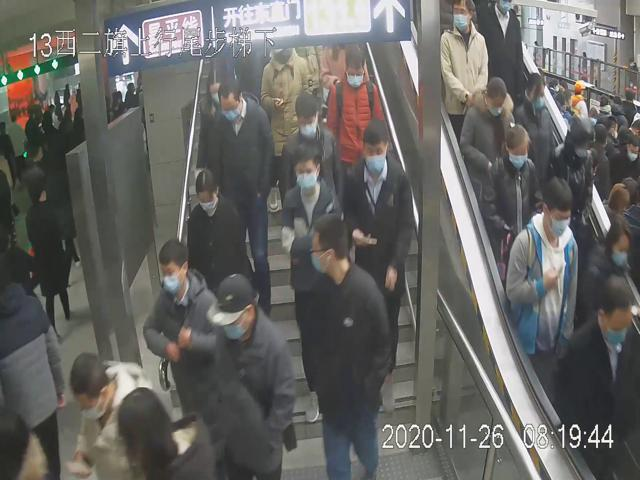person: (306, 212, 391, 480), (340, 115, 414, 388), (204, 272, 295, 478), (280, 140, 343, 425), (208, 76, 275, 315), (503, 173, 579, 371), (142, 236, 221, 421), (185, 160, 248, 315), (477, 122, 537, 261), (325, 40, 388, 170), (280, 90, 341, 216), (458, 76, 516, 193), (195, 59, 245, 189), (443, 1, 489, 133)
